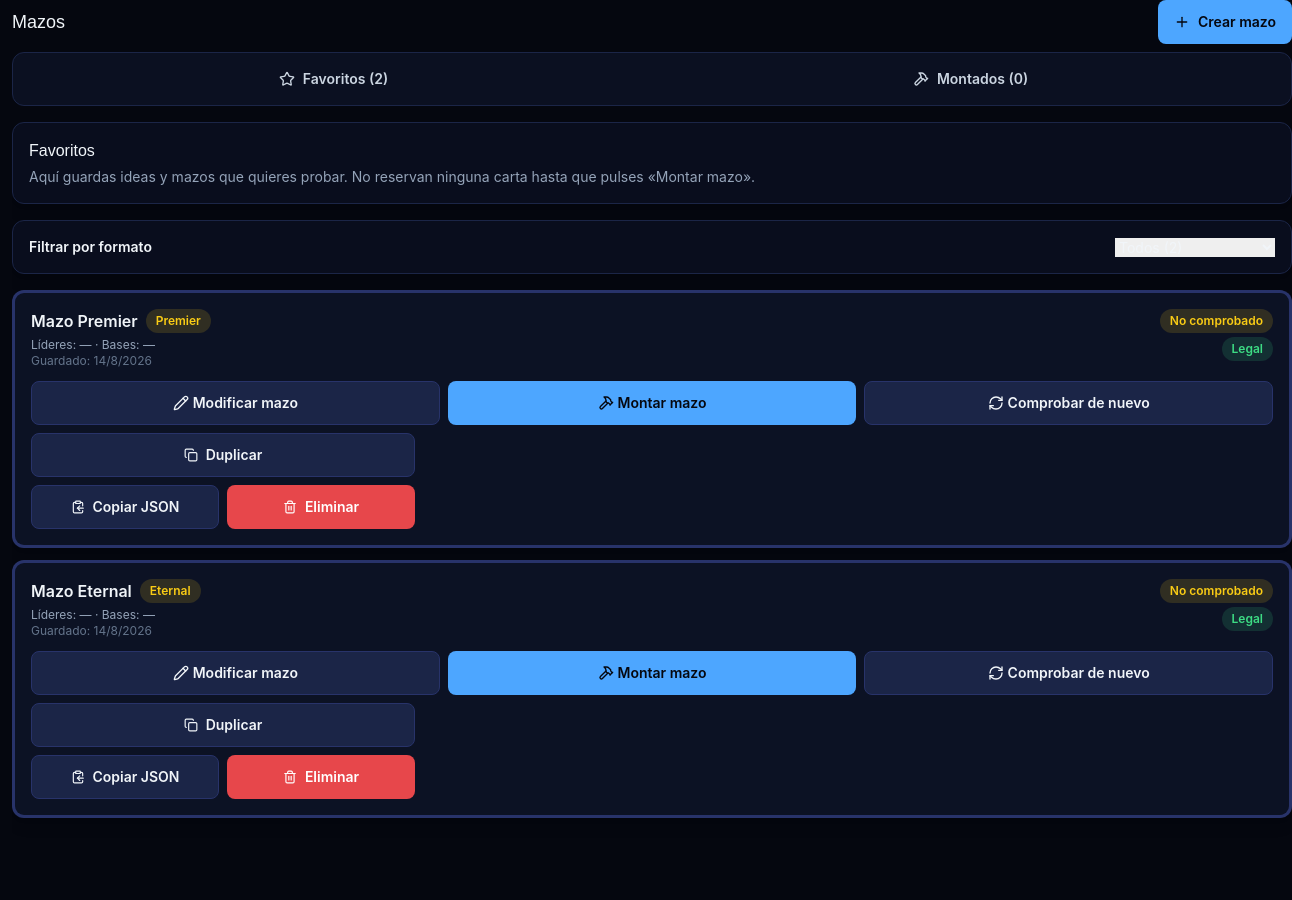
Test: Favoritos y mazos montados › filtra Favoritos por Premier, Eternal, Twin Suns y Trilogy
Check: the heading "Mazo Premier" is shown, box left=31, top=309, right=138, bottom=333
Check: the heading "Mazo Eternal" is shown, box left=31, top=579, right=132, bottom=603
Select "Eternal (1)" in the dropdown named "Filtrar mazos por formato": (1195, 247) left=1115, top=238, right=1275, bottom=256
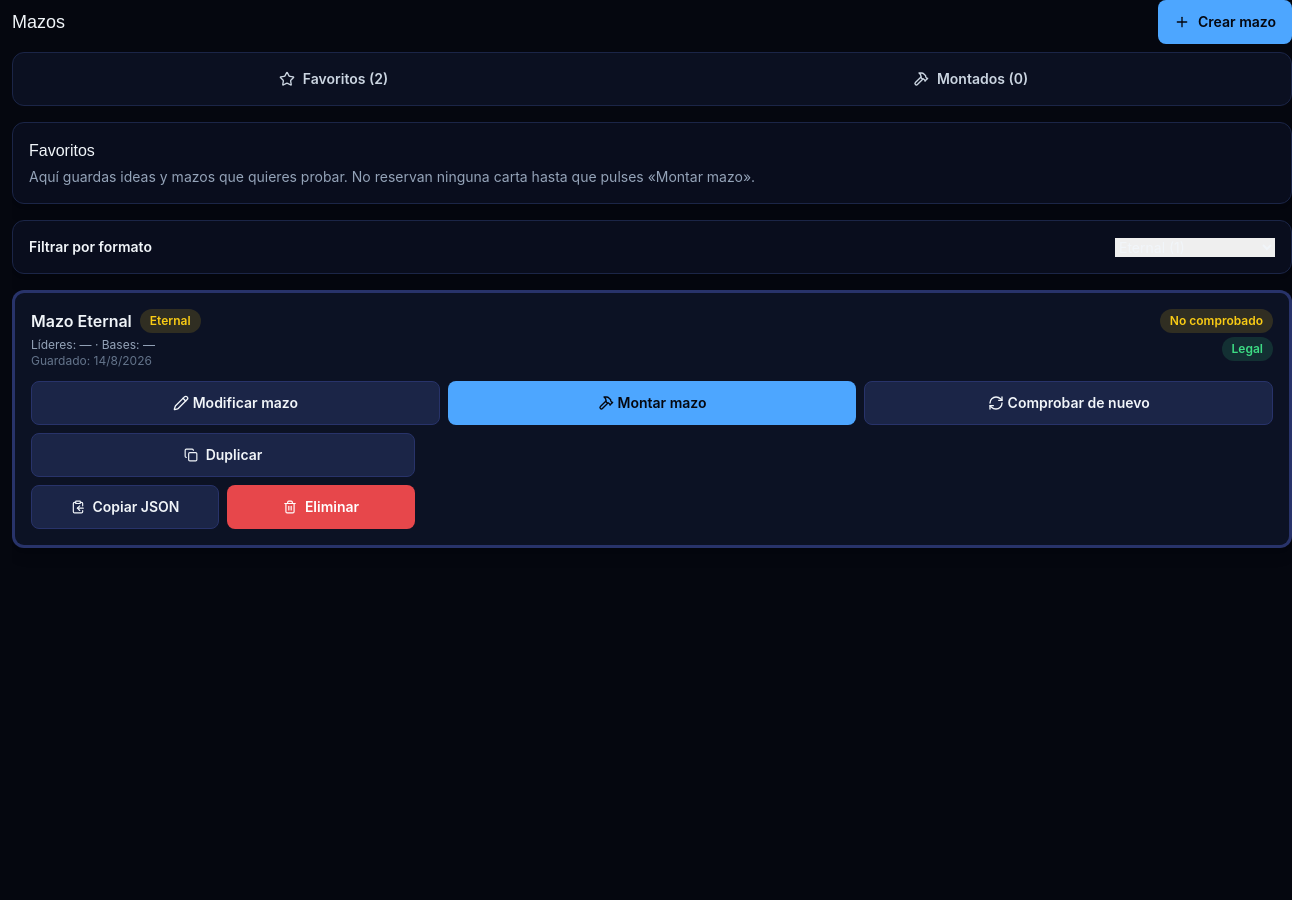
Check: the heading "Mazo Eternal" is shown, box left=31, top=309, right=132, bottom=333
Check: the heading "Mazo Premier" is gone
